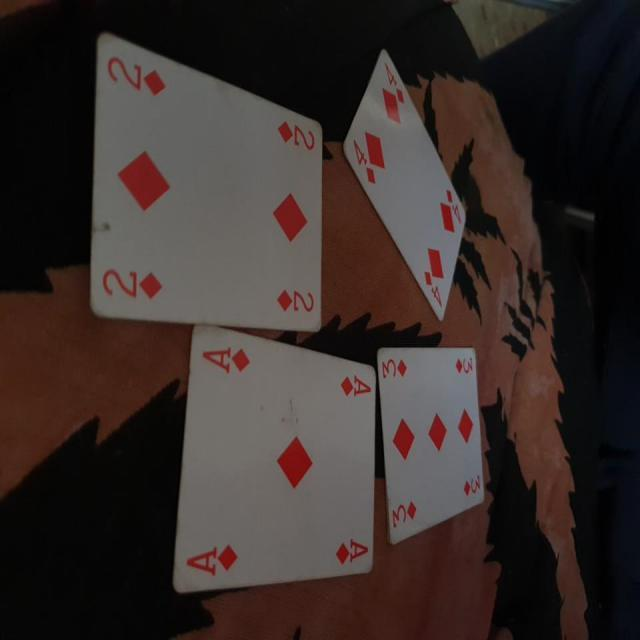2 of diamonds: (88, 27, 324, 324)
3 of diamonds: (376, 338, 488, 549)
4 of diamonds: (345, 45, 465, 318)
ace of diamonds: (158, 314, 378, 588)
